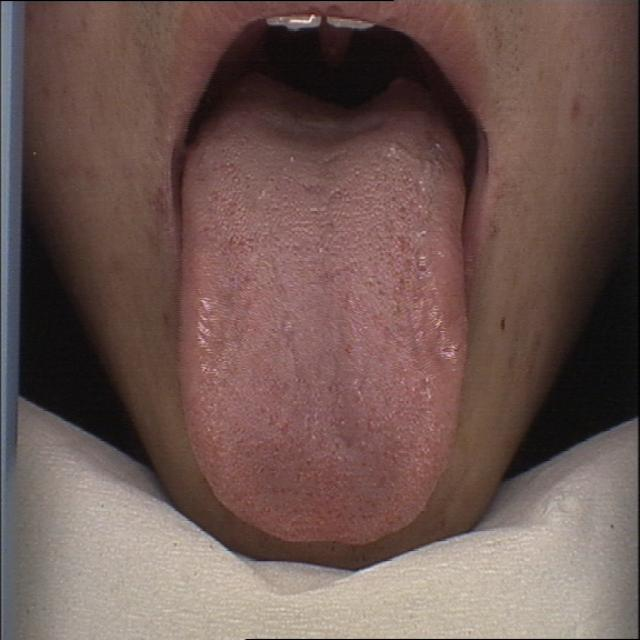tongue: (171, 99, 476, 543)
